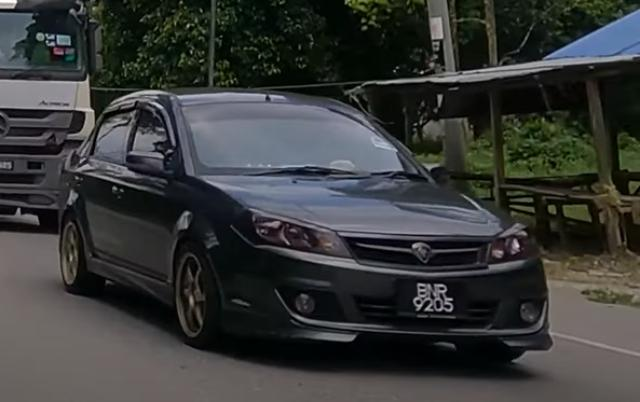License_Plate: (399, 283, 463, 318)
car: (58, 88, 555, 365)
